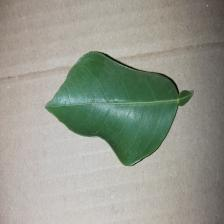healthy: (47, 48, 184, 162)
